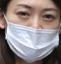with_mask: (1, 1, 61, 64)
